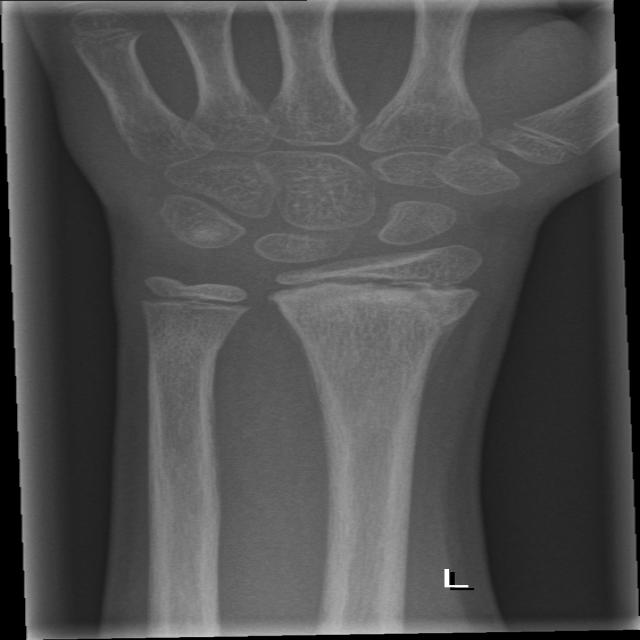radius fracture: (323, 281, 497, 399)
